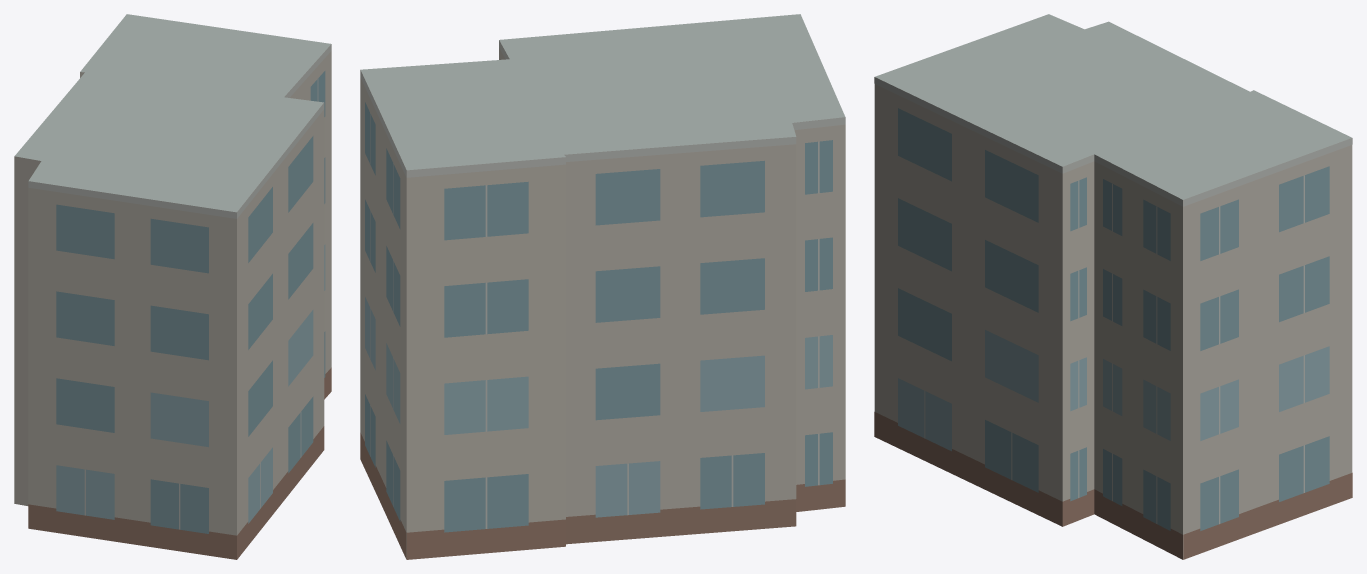
The model's file is survey-upis-32973040.glb.
3 renders of one model, left to right at view 1: azimuth 30°, elevation 25°; view 2: azimuth 150°, elevation 25°; view 3: azimuth 270°, elevation 25°, orthographic. The views are drawn at different scales.
Parts seen in each view (by area): view 1: survey-upis-32973040.tmp; view 2: survey-upis-32973040.tmp; view 3: survey-upis-32973040.tmp.
Boxes of the visible parts, x1=… form: survey-upis-32973040.tmp: x1=14, y1=14, x2=331, y2=559; survey-upis-32973040.tmp: x1=360, y1=14, x2=845, y2=559; survey-upis-32973040.tmp: x1=874, y1=14, x2=1352, y2=559.
Bounding box in the file's own units: 14.08 × 12.7 × 15.29.
